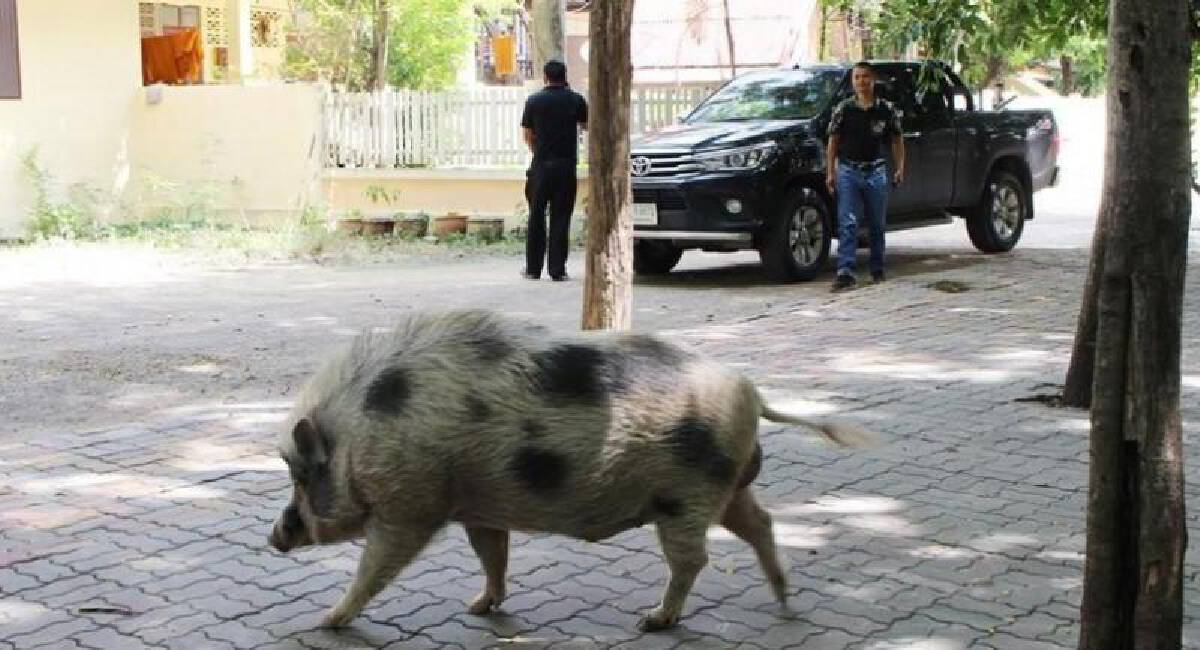boar: (251, 297, 883, 637)
